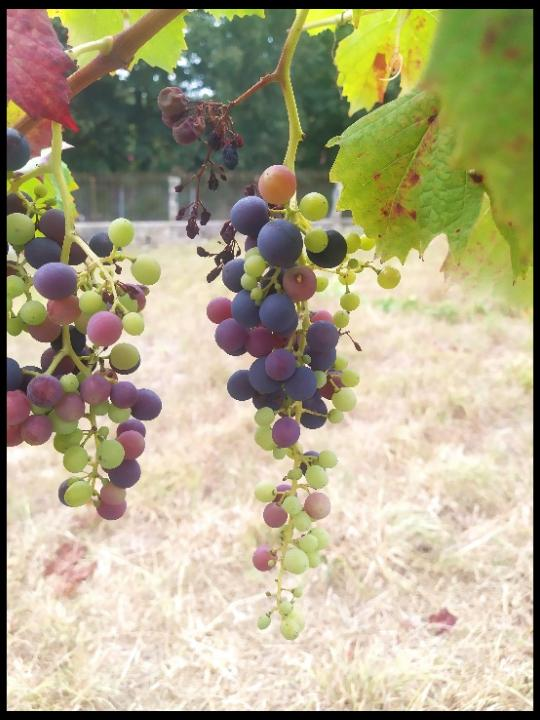grape: (191, 164, 399, 643), (9, 120, 164, 521), (156, 75, 248, 240)
